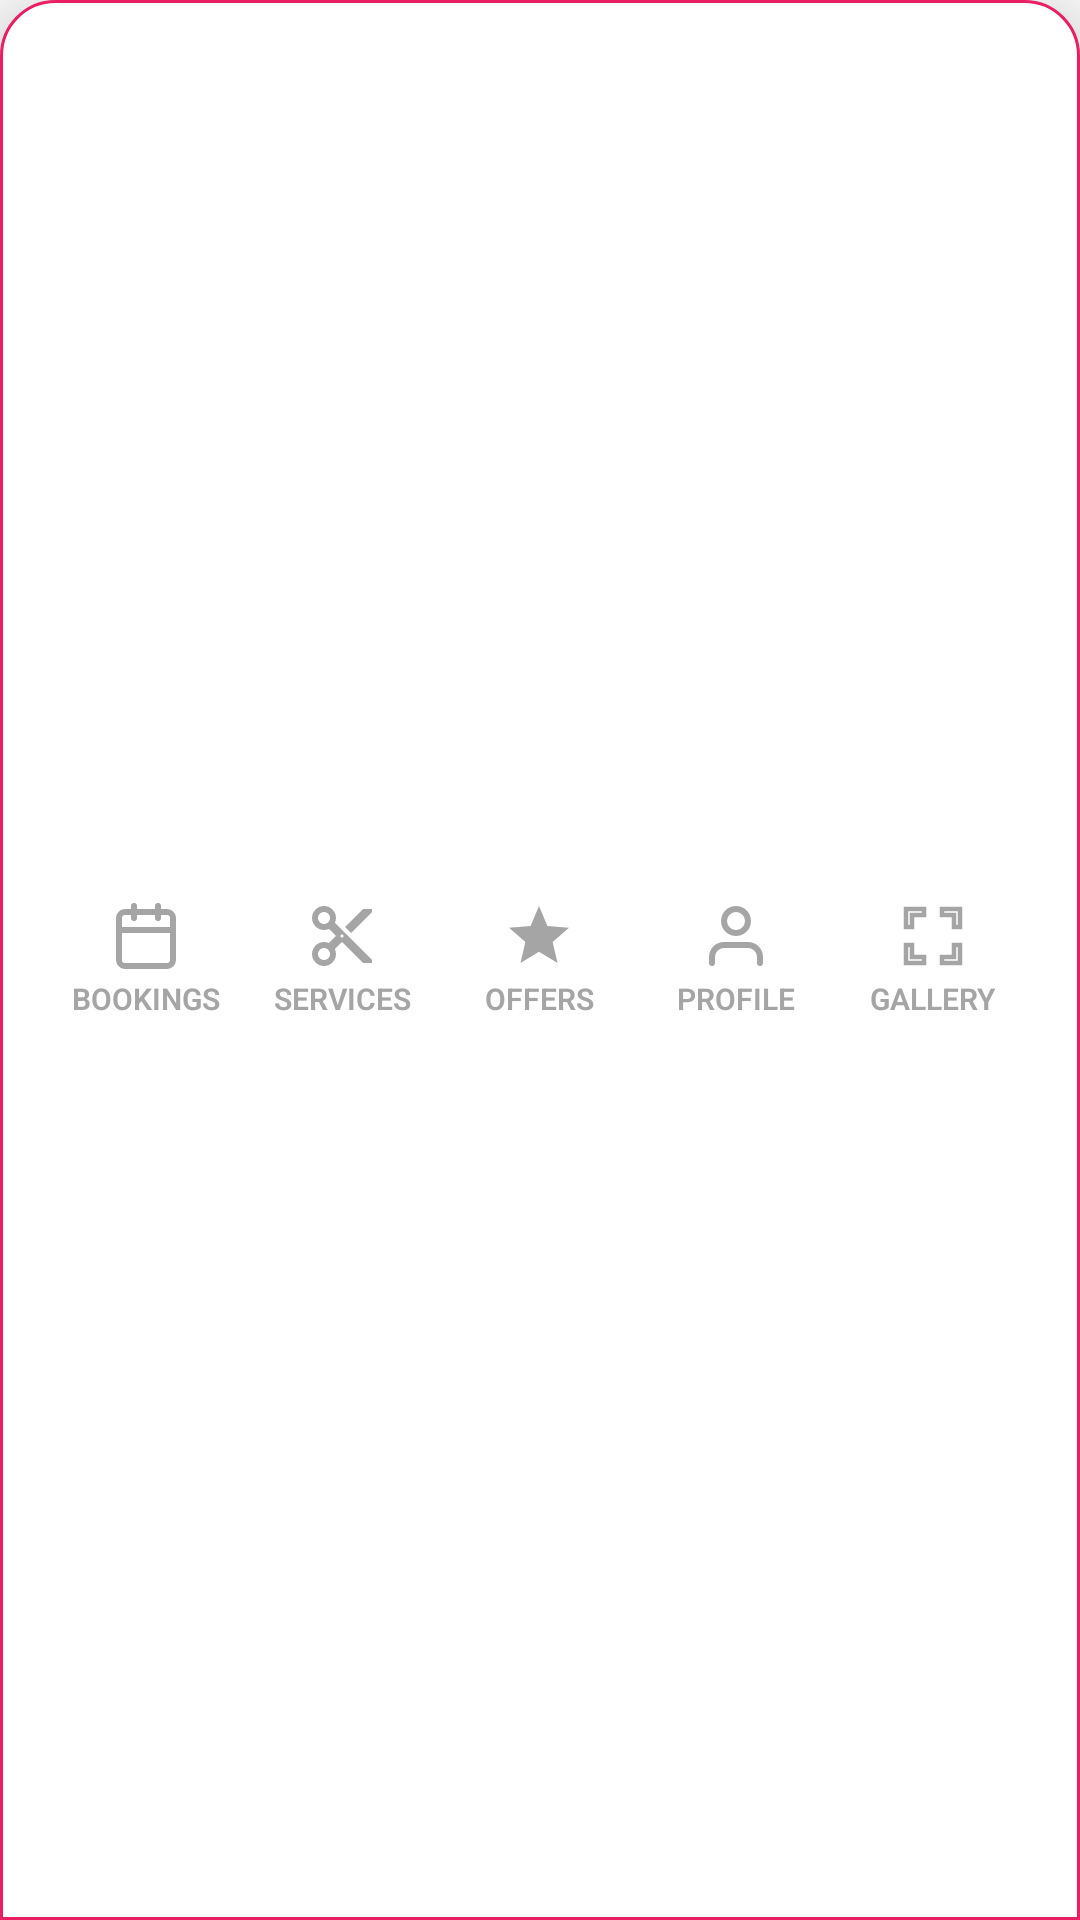

Icons on this 1080w x 1920h Android screen, each with the point to tap as (x,y):
scan: (933,936)
scissors: (342,936)
